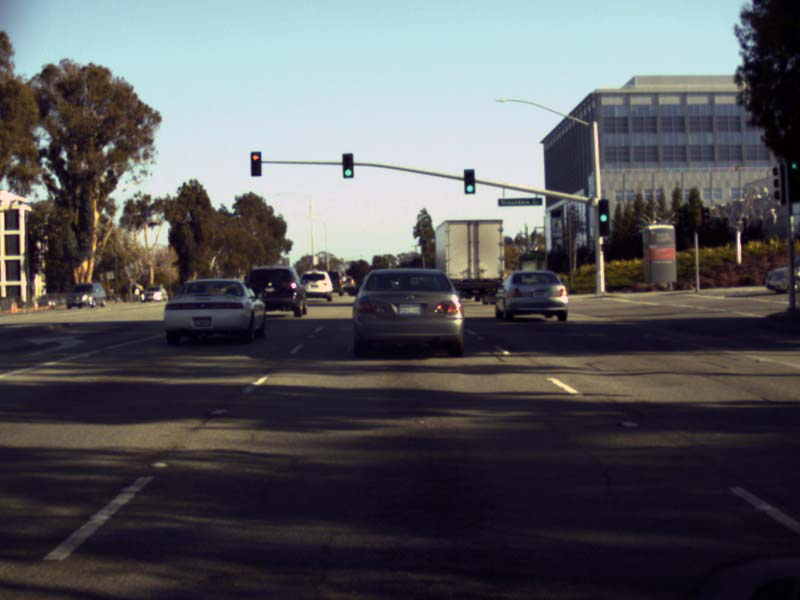Green: (598, 201, 609, 235), (341, 152, 353, 178), (463, 169, 475, 193)
Red: (250, 151, 261, 176)
